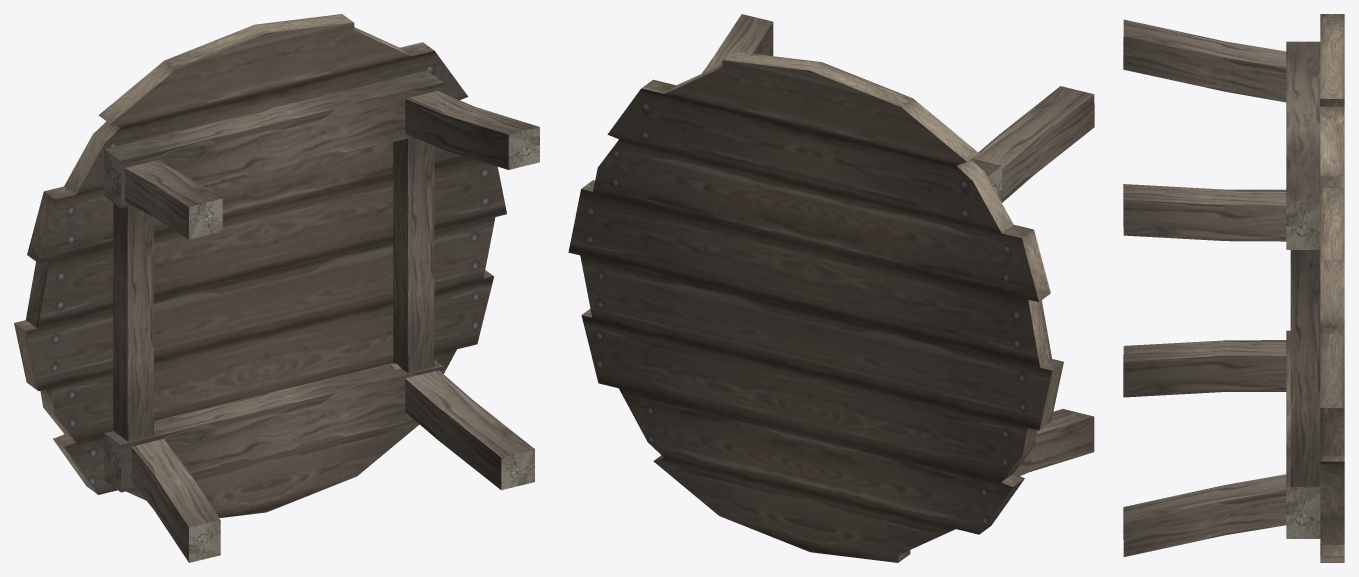
Rendered from Table_Round_A.fbx.
3 renders of one model, left to right at view 1: azimuth 30°, elevation 25°; view 2: azimuth 150°, elevation 25°; view 3: azimuth 270°, elevation 25°, orthographic.
Visible parts, largest first — view 1: Table_Round_A; view 2: Table_Round_A; view 3: Table_Round_A.
Boxes of the visible parts, bbox=[...] form: Table_Round_A: bbox=[14, 14, 539, 562]; Table_Round_A: bbox=[568, 14, 1094, 562]; Table_Round_A: bbox=[1123, 14, 1344, 562].
Size of the model in its own units: 2.37 by 2.25 by 0.926.
